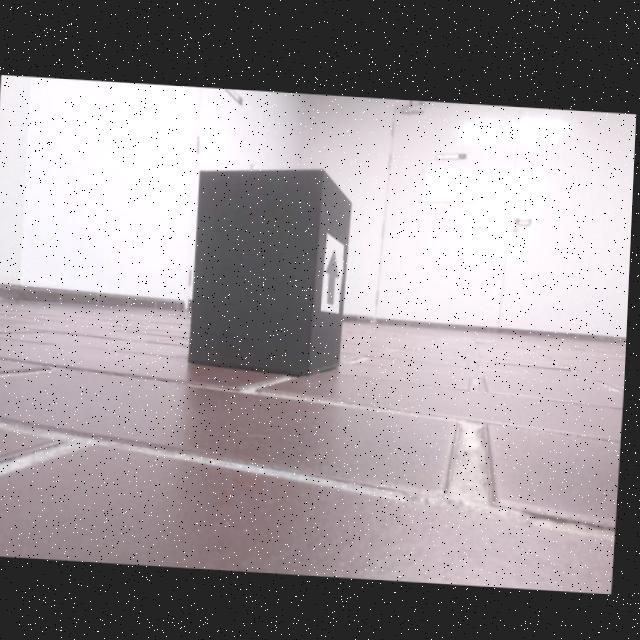UP: (327, 245, 342, 303)
